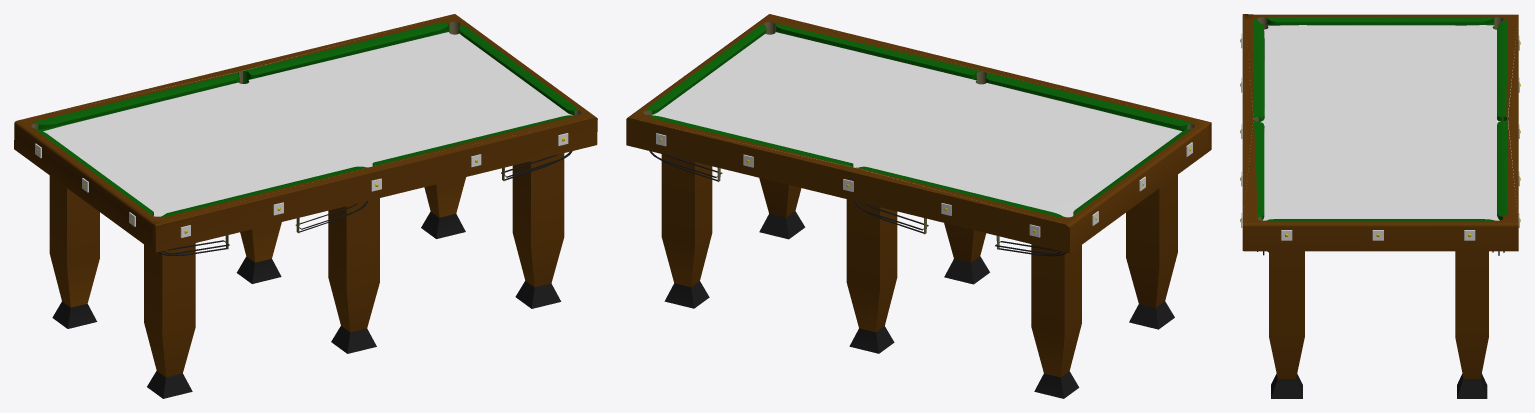
The model's file is Snooker Table with larger pockets and fixed rails.fbx.
The picture shows the model from 3 angles, left to right: view 1: azimuth 30°, elevation 25°; view 2: azimuth 150°, elevation 25°; view 3: azimuth 270°, elevation 25°; orthographic projection. The views are drawn at different scales.
Visible parts, largest first — view 1: Snooker Table; view 2: Snooker Table; view 3: Snooker Table.
Boxes of the visible parts, left/top/right/bottom form: Snooker Table: left=14, top=14, right=597, bottom=398; Snooker Table: left=626, top=14, right=1211, bottom=398; Snooker Table: left=1240, top=14, right=1520, bottom=398.
Bounding box in the file's own units: 384 × 156 × 214.
